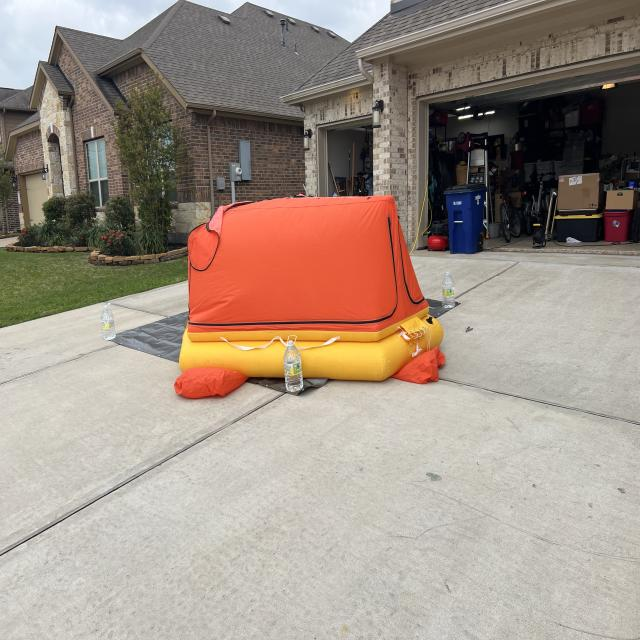Multi-person_life_raft: (174, 192, 445, 400)
